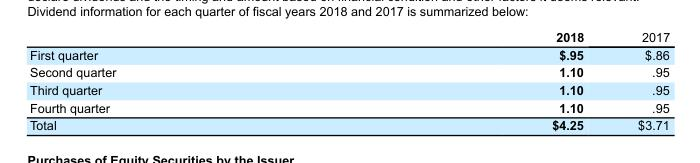table: (29, 29, 669, 131)
table column: (29, 29, 333, 131), (333, 29, 610, 131), (610, 29, 669, 131)
table column header: (29, 29, 669, 45)
table row: (29, 62, 669, 80), (29, 80, 669, 98), (29, 98, 669, 116), (29, 45, 669, 62), (29, 29, 669, 45), (29, 116, 669, 131)
